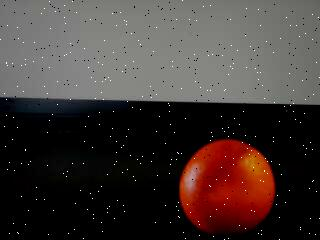Orange: (177, 138, 276, 236)
